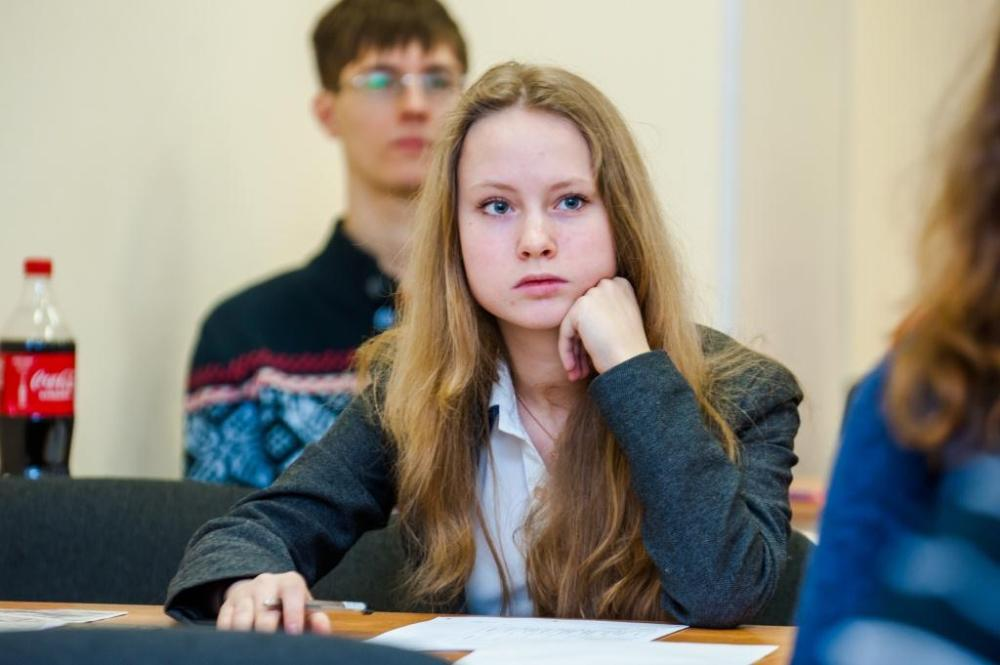students: (166, 62, 803, 634), (181, 1, 469, 484), (790, 15, 1000, 662)
